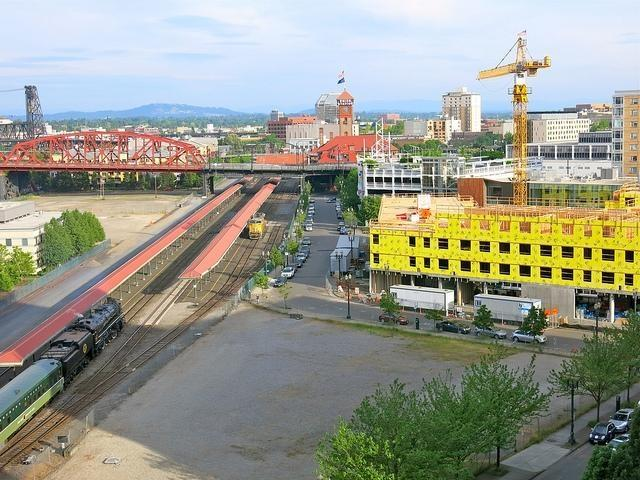car: (588, 419, 616, 446), (608, 408, 635, 432), (474, 326, 506, 340), (606, 434, 630, 452), (273, 274, 287, 288), (280, 267, 294, 278), (300, 237, 312, 246), (305, 223, 313, 232), (296, 260, 302, 268), (305, 220, 313, 224), (308, 210, 314, 214), (309, 198, 315, 202), (327, 198, 332, 202)
truck: (389, 283, 468, 320), (474, 294, 542, 327), (330, 236, 362, 272)
